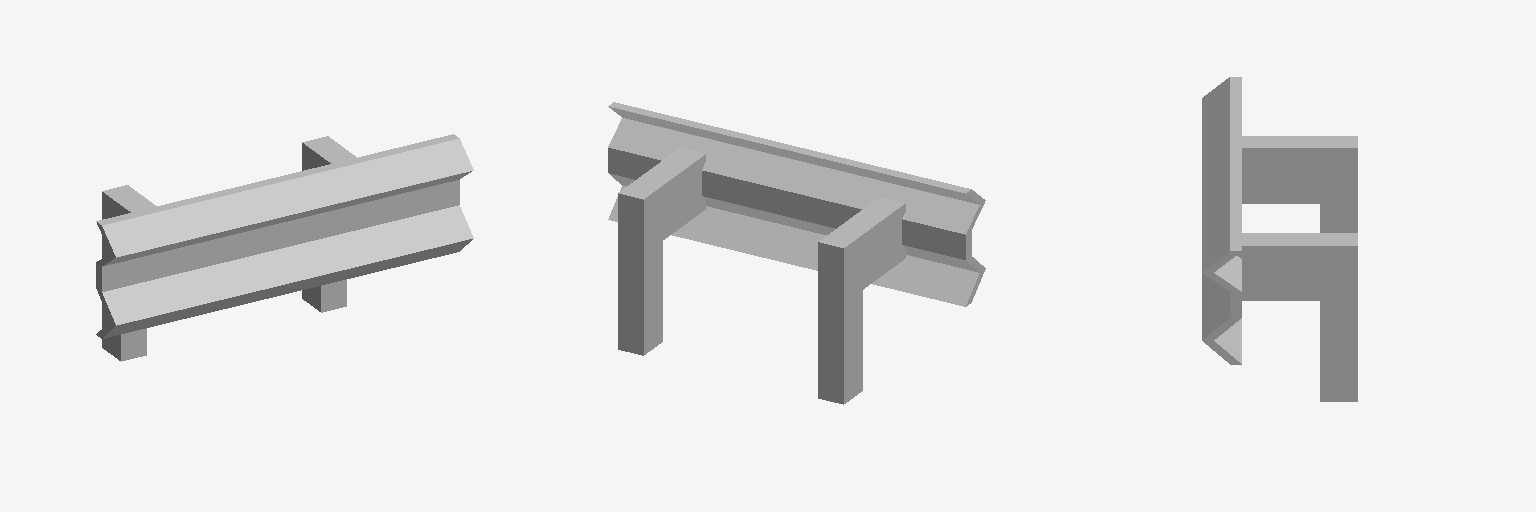
File: crashbarrier.obj
The picture shows the model from 3 angles: view 1: azimuth 30°, elevation 25°; view 2: azimuth 150°, elevation 25°; view 3: azimuth 270°, elevation 25°; orthographic projection.
Parts seen in each view (by area): view 1: Plane_Plane.002; view 2: Plane_Plane.002; view 3: Plane_Plane.002.
Boxes of the visible parts, x1,y1,x2,y2 form: Plane_Plane.002: [96, 134, 473, 361]; Plane_Plane.002: [608, 102, 985, 404]; Plane_Plane.002: [1202, 77, 1357, 401].
Size of the model in its own units: 2 by 0.9844 by 0.757.